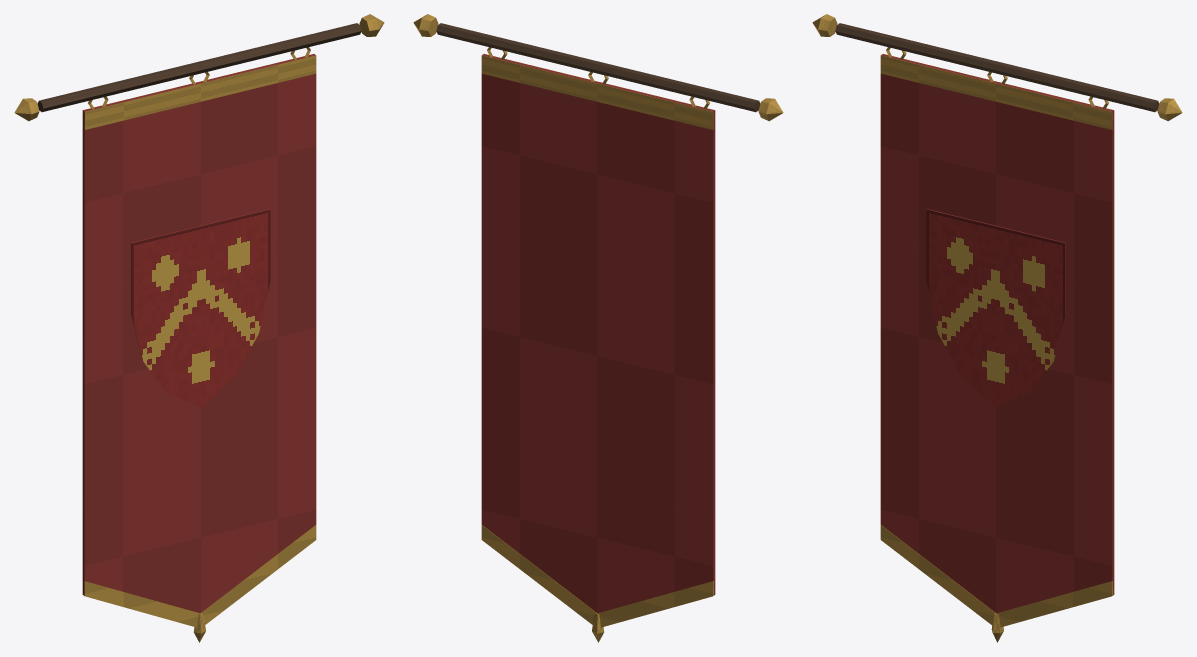
Rendered from heraldic-banner-a.glb.
3 renders of one model, left to right at view 1: azimuth 30°, elevation 25°; view 2: azimuth 150°, elevation 25°; view 3: azimuth 330°, elevation 25°, orthographic.
Visible parts, largest first — view 1: heraldic-banner-a.001; view 2: heraldic-banner-a.001; view 3: heraldic-banner-a.001.
Boxes of the visible parts, x1,y1,x2,y2 form: heraldic-banner-a.001: (14,14,384,642); heraldic-banner-a.001: (413,14,783,642); heraldic-banner-a.001: (812,14,1182,642).
Size of the model in its own units: 1.28 by 1.93 by 0.07.
1 material, 1 textured.
